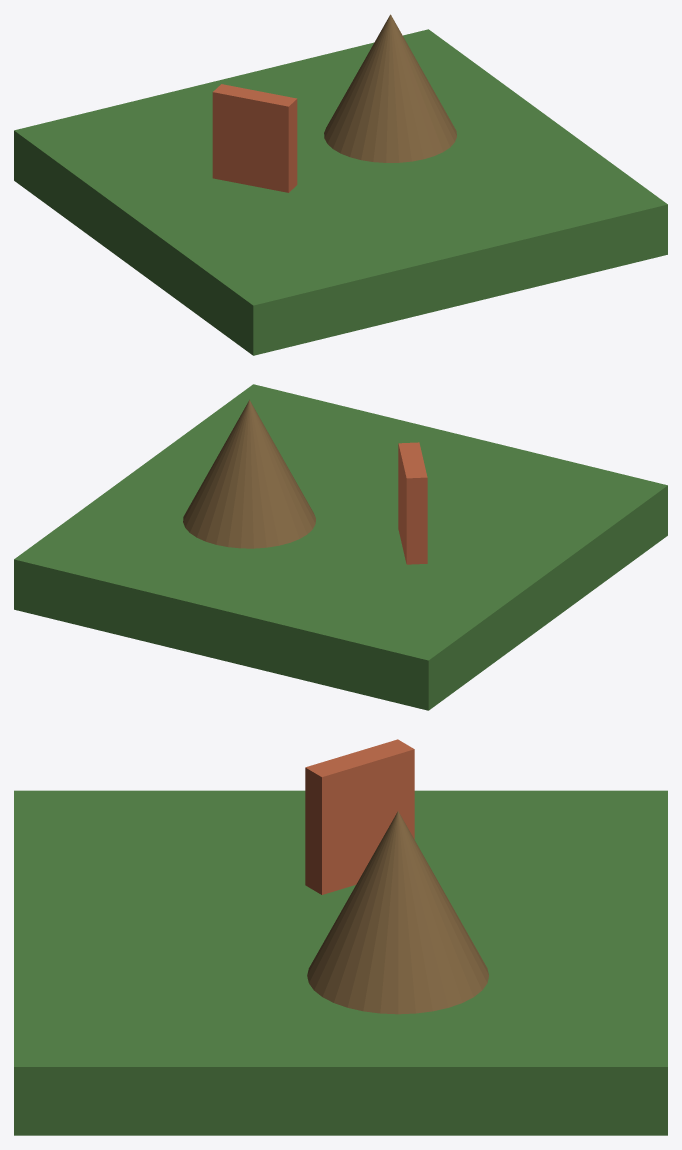
File: simple_scene.obj
3 views of the same model, one above another, from view 1: azimuth 30°, elevation 25°; view 2: azimuth 150°, elevation 25°; view 3: azimuth 270°, elevation 25° (orthographic). The views are drawn at different scales.
Parts seen in each view (by area): view 1: Cube.002_Cube.003, Cone, Thin_Plane_Cube; view 2: Cube.002_Cube.003, Cone, Thin_Plane_Cube; view 3: Cube.002_Cube.003, Cone, Thin_Plane_Cube.
Part boxes in pixels (box(x1,y1,x2,y2)): Cube.002_Cube.003: box(14, 29, 667, 355); Cone: box(324, 14, 456, 162); Thin_Plane_Cube: box(212, 84, 297, 192); Cube.002_Cube.003: box(14, 384, 667, 710); Cone: box(183, 400, 315, 548); Thin_Plane_Cube: box(398, 442, 427, 564); Cube.002_Cube.003: box(14, 790, 667, 1135); Cone: box(307, 811, 488, 1014); Thin_Plane_Cube: box(305, 739, 414, 894).
Size of the model in its own units: 2.77 by 1.09 by 2.77.
Materials: 3 (3 with a texture image).
